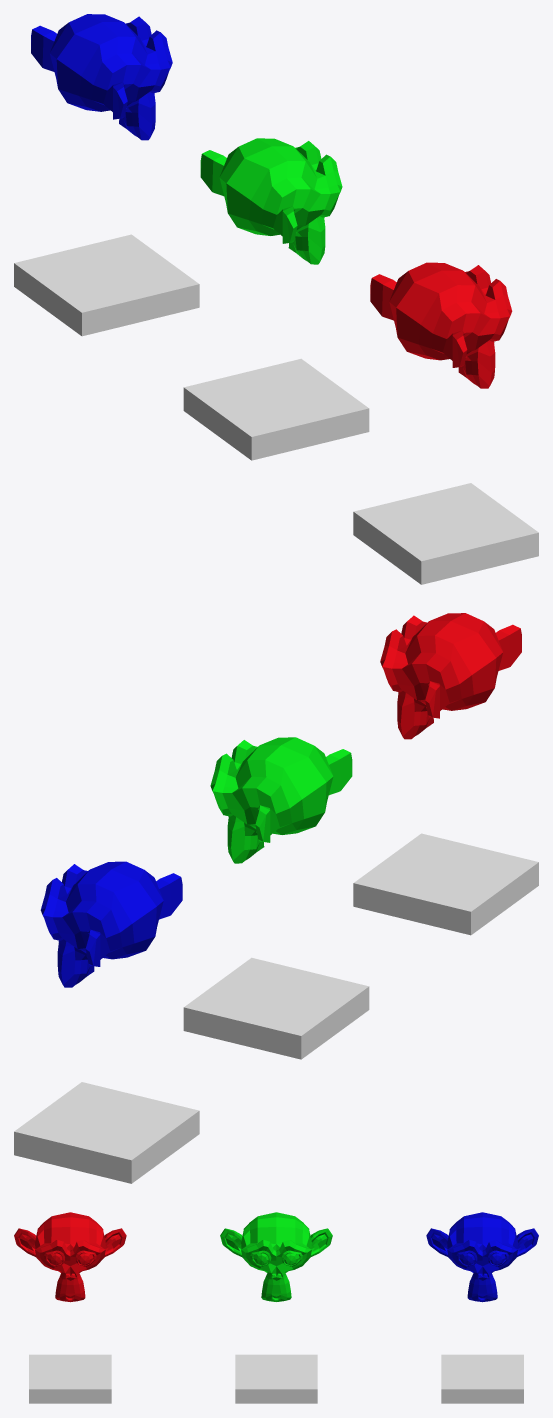
The picture shows the model from 3 angles, top to bottom: view 1: azimuth 30°, elevation 25°; view 2: azimuth 150°, elevation 25°; view 3: azimuth 270°, elevation 25°; orthographic projection. The views are drawn at different scales.
Visible parts, largest first — view 1: Cube.001, Cube, Cube.002, Suzanne.001, Suzanne, Suzanne.002; view 2: Cube.001, Cube.002, Cube, Suzanne.001, Suzanne.002, Suzanne; view 3: Suzanne.001, Suzanne, Suzanne.002, Cube, Cube.001, Cube.002.
Boxes of the visible parts, bbox=[...] form: Cube.001: bbox=[183, 358, 369, 460]; Cube: bbox=[353, 483, 538, 584]; Cube.002: bbox=[14, 234, 199, 336]; Suzanne.001: bbox=[200, 138, 342, 264]; Suzanne: bbox=[370, 262, 512, 388]; Suzanne.002: bbox=[31, 14, 172, 140]; Cube.001: bbox=[183, 957, 369, 1059]; Cube.002: bbox=[14, 1082, 199, 1183]; Cube: bbox=[353, 833, 538, 935]; Suzanne.001: bbox=[210, 737, 352, 863]; Suzanne.002: bbox=[40, 861, 182, 987]; Suzanne: bbox=[380, 613, 521, 739]; Suzanne.001: bbox=[220, 1212, 332, 1301]; Suzanne: bbox=[14, 1212, 126, 1302]; Suzanne.002: bbox=[426, 1212, 538, 1302]; Cube: bbox=[29, 1354, 111, 1403]; Cube.001: bbox=[235, 1354, 317, 1403]; Cube.002: bbox=[441, 1354, 523, 1403].
Bounding box in the file's own units: 2 × 4.49 × 12.73.
